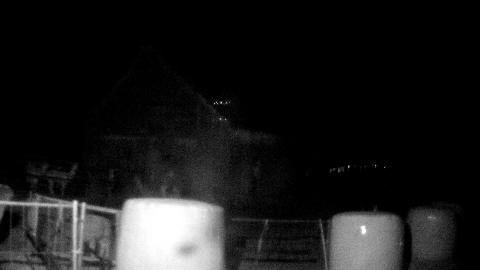sheep: (74, 211, 112, 261), (0, 184, 15, 220)
